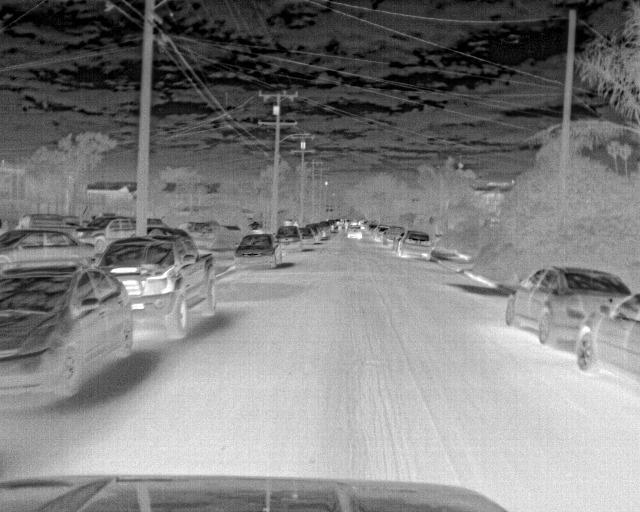car: (1, 267, 136, 416), (98, 230, 222, 344), (502, 264, 632, 351), (573, 293, 639, 393), (0, 228, 97, 272), (77, 216, 137, 255), (235, 234, 280, 271), (177, 221, 219, 249), (398, 230, 437, 259), (274, 226, 298, 256), (381, 225, 404, 246), (297, 227, 314, 248), (303, 225, 322, 243), (345, 225, 366, 241), (374, 226, 389, 242), (318, 220, 332, 237)
